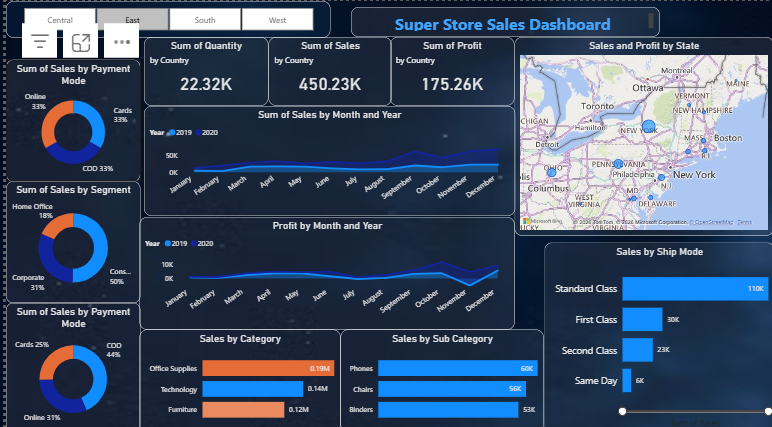

The dashboard page shown, as its layout file describes it:
{"tool":"powerbi","page":{"name":"Page 1","canvas":[1280,720],"ordinal":0},"visuals":[{"type":"clusteredBarChart","title":" Sales by Category","fields":{"Category":["Sheet1.Category"],"Y":["Sum(Sheet1.Sales)"]},"box":[222.2,548.1,335.2,172.2],"z":0},{"type":"clusteredBarChart","title":" Sales by  Sub Category","fields":{"Category":["Sheet1.Sub-Category"],"Y":["Sum(Sheet1.Sales)"]},"box":[557.4,548.1,338.9,172.2],"z":1000},{"type":"clusteredBarChart","title":" Sales by Ship Mode","fields":{"Category":["Sheet1.Ship Mode"],"Y":["Sum(Sheet1.Sales)"]},"box":[896.3,401.9,383.3,318.5],"z":2000},{"type":"stackedAreaChart","title":"Profit by Month and Year","fields":{"Category":["Sheet1.Order Date.Variation.Date Hierarchy.Month","Sheet1.Order Date.Variation.Date Hierarchy.Day"],"Series":["Sheet1.Order Date.Variation.Date Hierarchy.Year"],"Y":["Sum(Sheet1.Profit)"]},"box":[222.1,359.8,625.7,187.7],"z":3000},{"type":"stackedAreaChart","fields":{"Category":["Sheet1.Order Date.Variation.Date Hierarchy.Month","Sheet1.Order Date.Variation.Date Hierarchy.Day"],"Y":["Sum(Sheet1.Sales)"],"Series":["Sheet1.Order Date.Variation.Date Hierarchy.Year"]},"box":[229.6,175.9,618.5,183.3],"z":4000},{"type":"map","title":"Sales and Profit by State","fields":{"Category":["Sheet1.State"],"Size":["Sum(Sheet1.Sales)"]},"box":[847.8,61,431.7,331.6],"z":5000},{"type":"donutChart","fields":{"Category":["Sheet1.Segment"],"Y":["Sum(Sheet1.Sales)"]},"box":[0,300,224.1,203.7],"z":6000},{"type":"donutChart","fields":{"Category":["Sheet1.Payment Mode"],"Y":["Sum(Sheet1.Sales)"]},"box":[0,503.7,224.1,216.7],"z":7000},{"type":"slicer","fields":{"Values":["Sheet1.Region"]},"box":[0,0,540.7,61.1],"z":8000},{"type":"textbox","box":[574,10.9,514.6,50.1],"z":9000},{"type":"kpi","fields":{"Indicator":["Sum(Sheet1.Sales)"],"TrendLine":["SuperStore_Sales_Dataset.Country"]},"box":[437,61.1,205.6,114.8],"z":10000},{"type":"kpi","fields":{"TrendLine":["SuperStore_Sales_Dataset.Country"],"Indicator":["Sum(SuperStore_Sales_Dataset.Quantity)"]},"box":[229.6,61.1,207.4,114.8],"z":11000},{"type":"kpi","fields":{"TrendLine":["SuperStore_Sales_Dataset.Country"],"Indicator":["Sum(SuperStore_Sales_Dataset.Profit)"]},"box":[640.7,61.1,207.4,114.8],"z":12000},{"type":"donutChart","fields":{"Category":["SuperStore_Sales_Dataset.Payment Mode"],"Y":["Sum(Sheet1.Sales)"]},"box":[0,96.3,224.1,203.7],"z":13000}]}

Visuals, with their boxes in screenshot pixels (x1, y1, x2, y2), scaled from the page's 1280x720 canvas onto the 772x427 screenshot:
" Sales by Category" clusteredBarChart: [x1=134, y1=325, x2=336, y2=426]
" Sales by  Sub Category" clusteredBarChart: [x1=336, y1=325, x2=541, y2=426]
" Sales by Ship Mode" clusteredBarChart: [x1=541, y1=238, x2=771, y2=426]
"Profit by Month and Year" stackedAreaChart: [x1=134, y1=213, x2=511, y2=325]
stackedAreaChart - Sheet1.Order Date.Variation.Date Hierarchy.Month x Sheet1.Order Date.Variation.Date Hierarchy.Day: [x1=138, y1=104, x2=512, y2=213]
"Sales and Profit by State" map: [x1=511, y1=36, x2=771, y2=233]
donutChart - Sheet1.Segment x Sum(Sheet1.Sales): [x1=0, y1=178, x2=135, y2=299]
donutChart - Sheet1.Payment Mode x Sum(Sheet1.Sales): [x1=0, y1=299, x2=135, y2=426]
slicer - Sheet1.Region: [x1=0, y1=0, x2=326, y2=36]
textbox: [x1=346, y1=6, x2=657, y2=36]
kpi - Sum(Sheet1.Sales) x SuperStore_Sales_Dataset.Country: [x1=264, y1=36, x2=388, y2=104]
kpi - SuperStore_Sales_Dataset.Country x Sum(SuperStore_Sales_Dataset.Quantity): [x1=138, y1=36, x2=264, y2=104]
kpi - SuperStore_Sales_Dataset.Country x Sum(SuperStore_Sales_Dataset.Profit): [x1=386, y1=36, x2=512, y2=104]
donutChart - SuperStore_Sales_Dataset.Payment Mode x Sum(Sheet1.Sales): [x1=0, y1=57, x2=135, y2=178]
